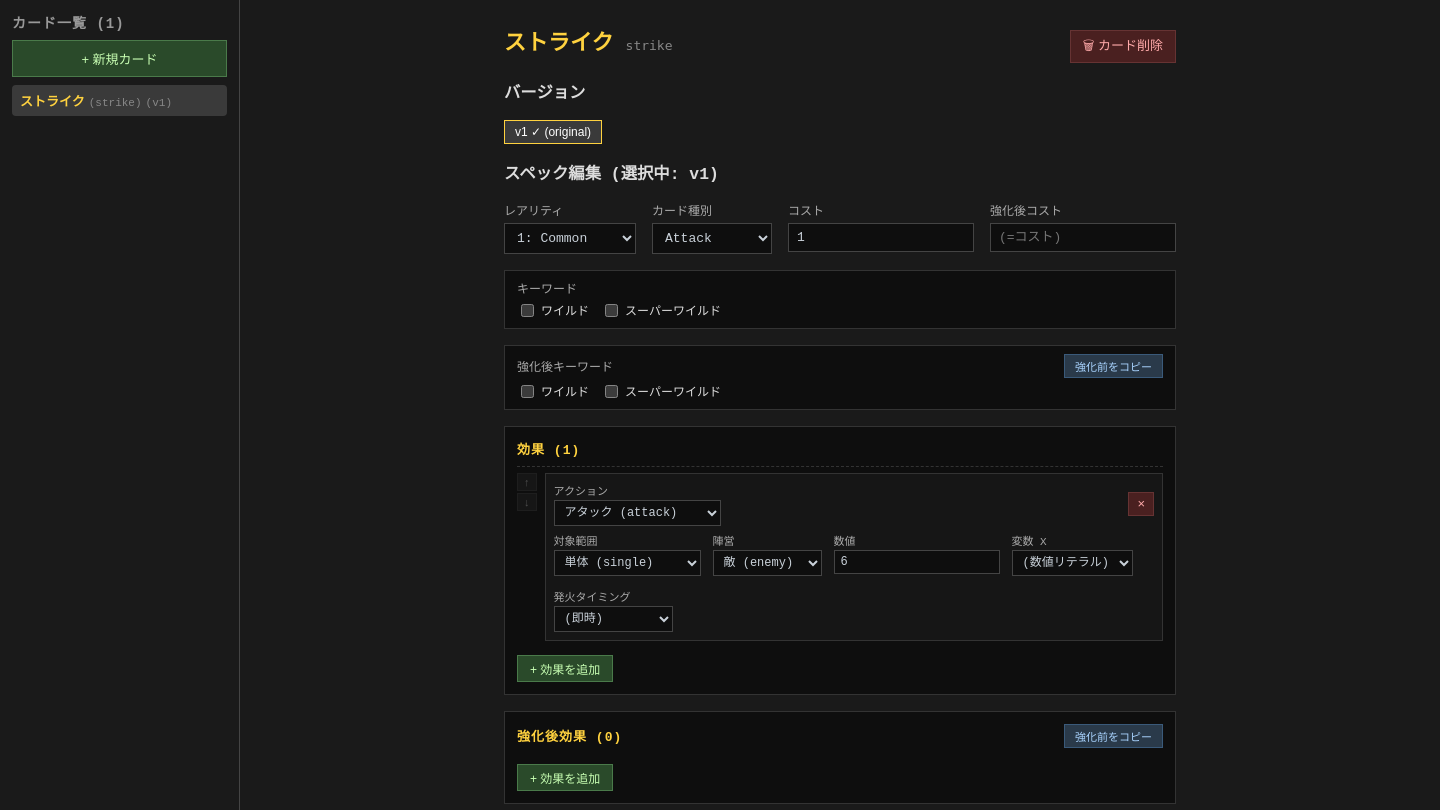
Test: DevCardsScreen › shows Delete Card button + opens delete modal
This screenshot has width=1440, height=810.
Click the button with aria-label "delete card".
click(1123, 46)  # box [1070,30,1176,63]
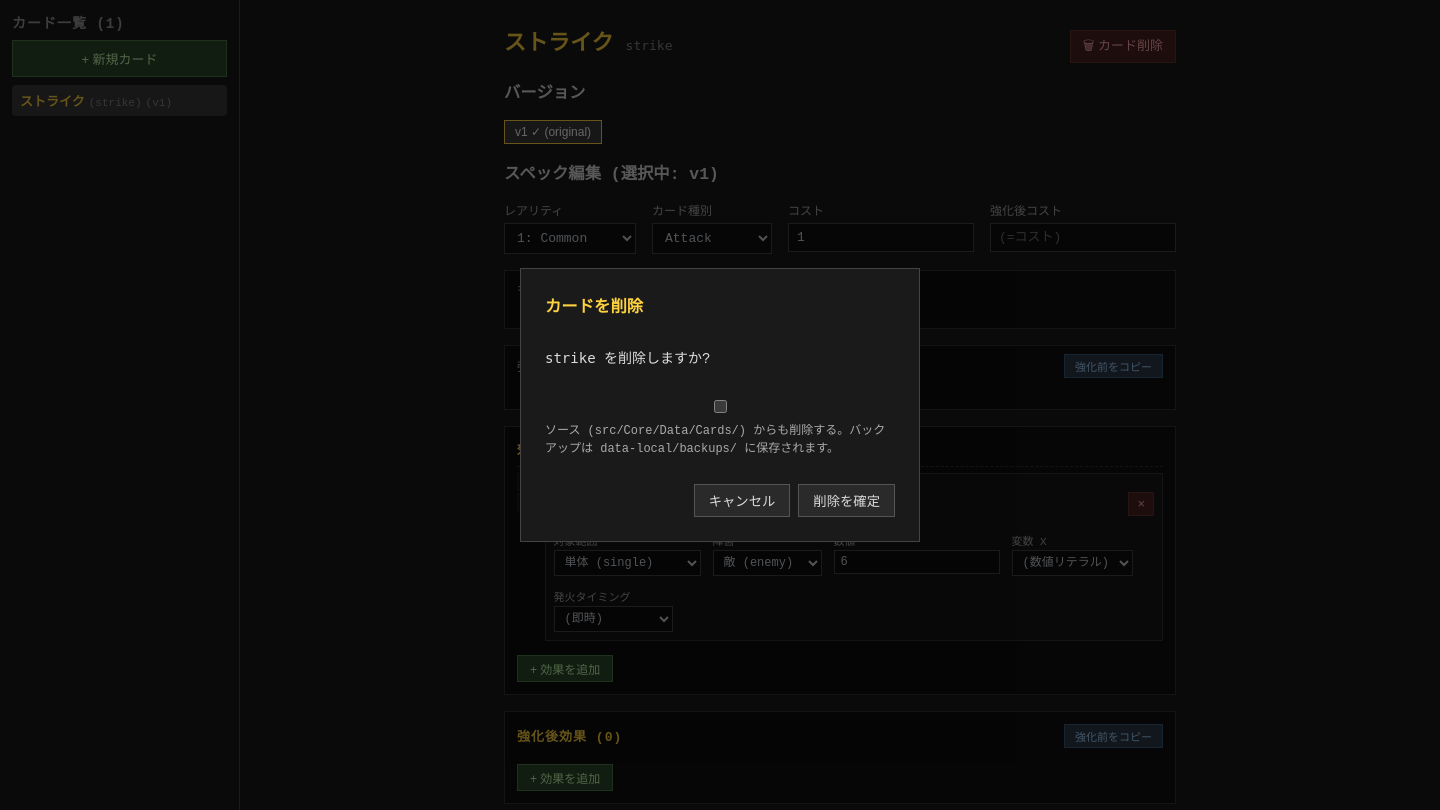
Expected: the dialog named "Delete Card" is shown, [520,268,920,542]
Expected: the checkbox named "also delete base file" is shown, [714,400,727,413]
Expected: the button "削除を確定" is shown, [798,484,895,517]
